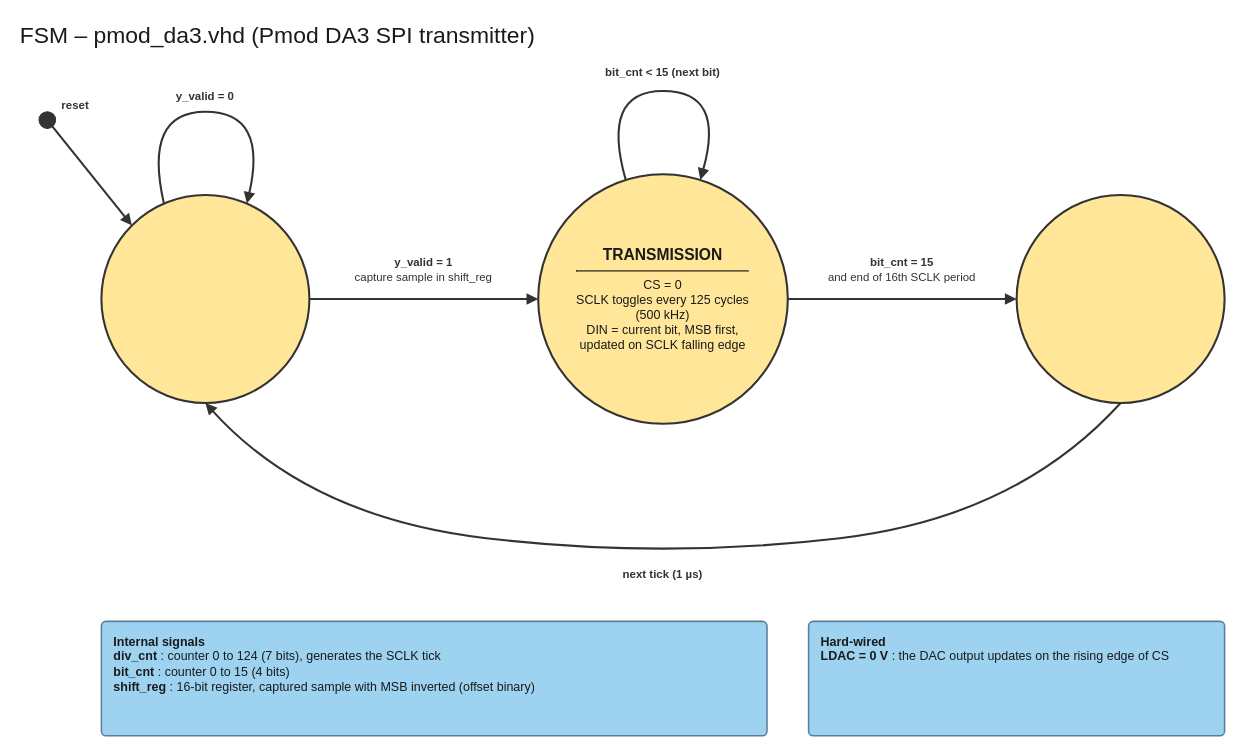
This 1243x754 diagram has some shape labels left out. The box of each missing label's shape, as (x1, y1, x2, y2) in pixels:
FIN CS = 1 SCLK = 0 DIN = 0: (1015, 193, 1225, 404)
IDLE CS = 1 SCLK = 0 DIN = 0: (100, 193, 310, 404)
